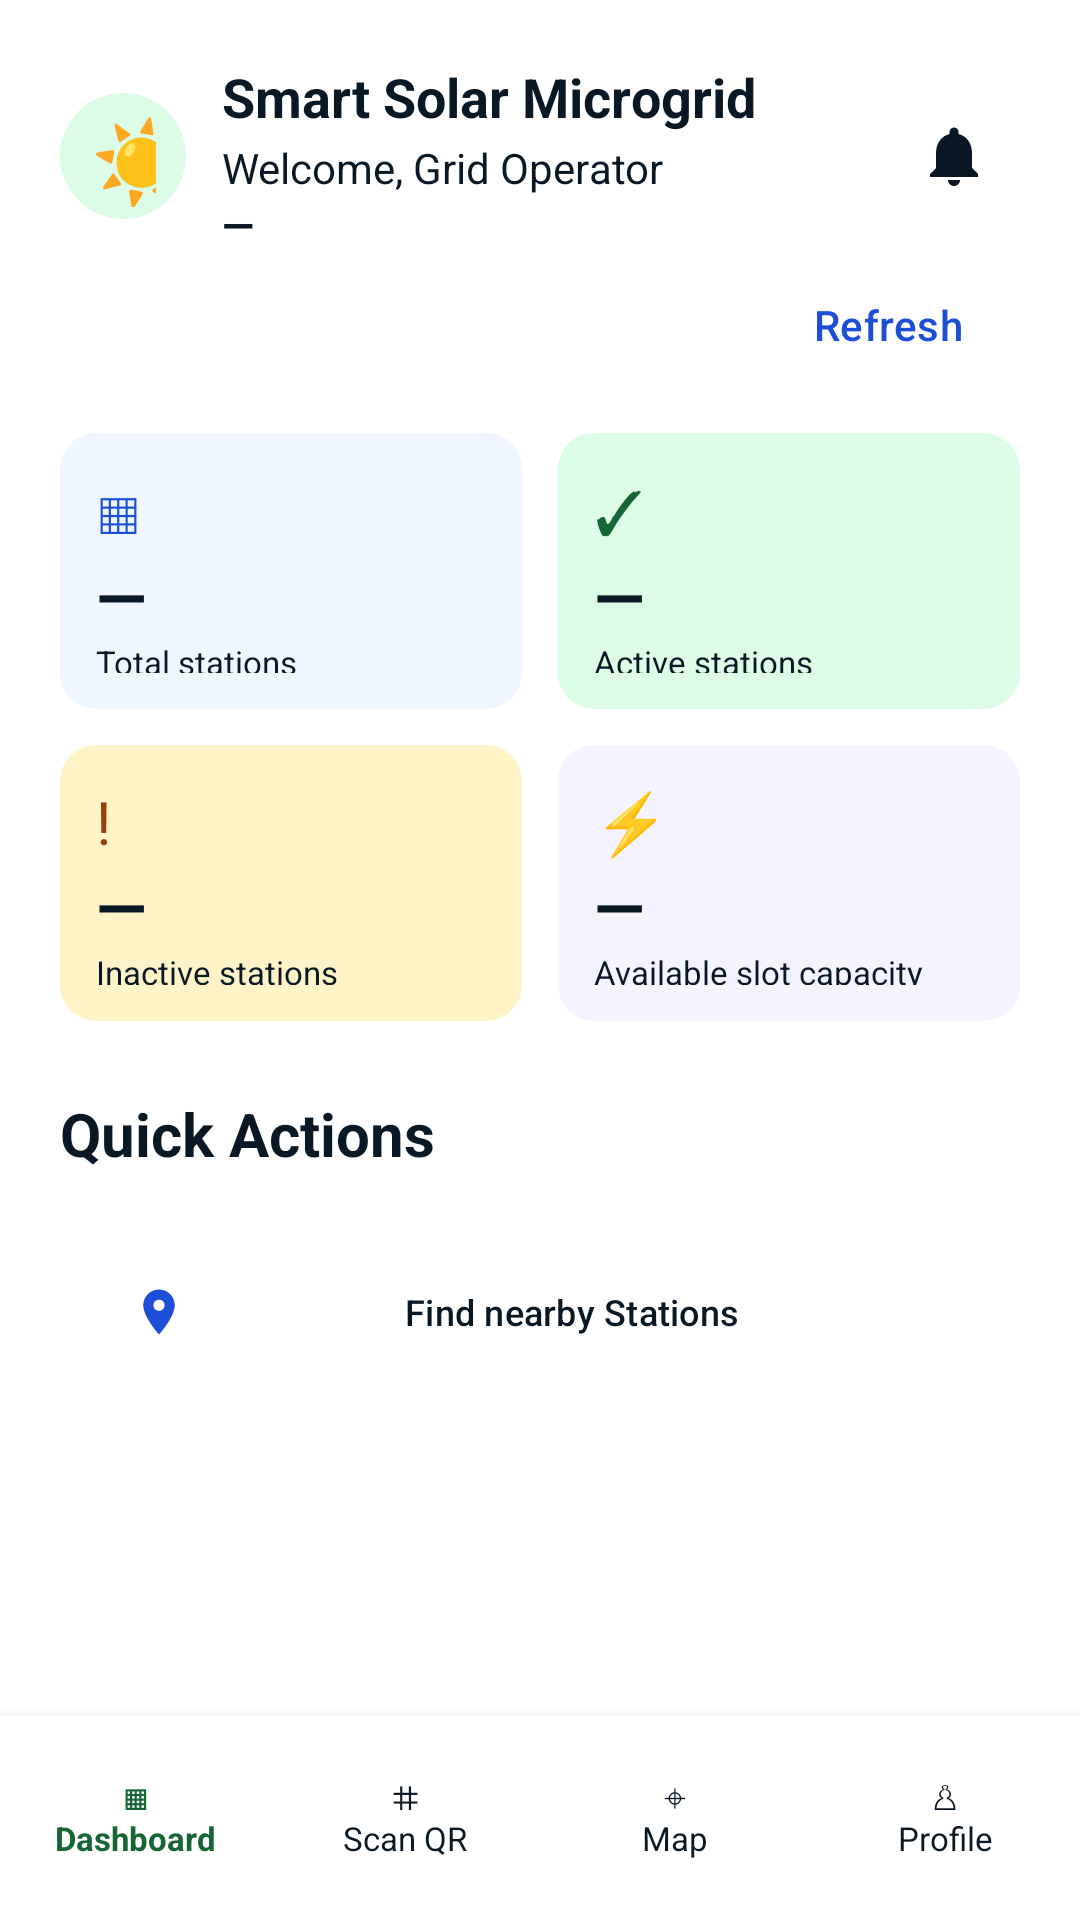

Icon click points for this 1080px×1920px phone screenshot, format [x,y]:
Notifications: [954,156]
